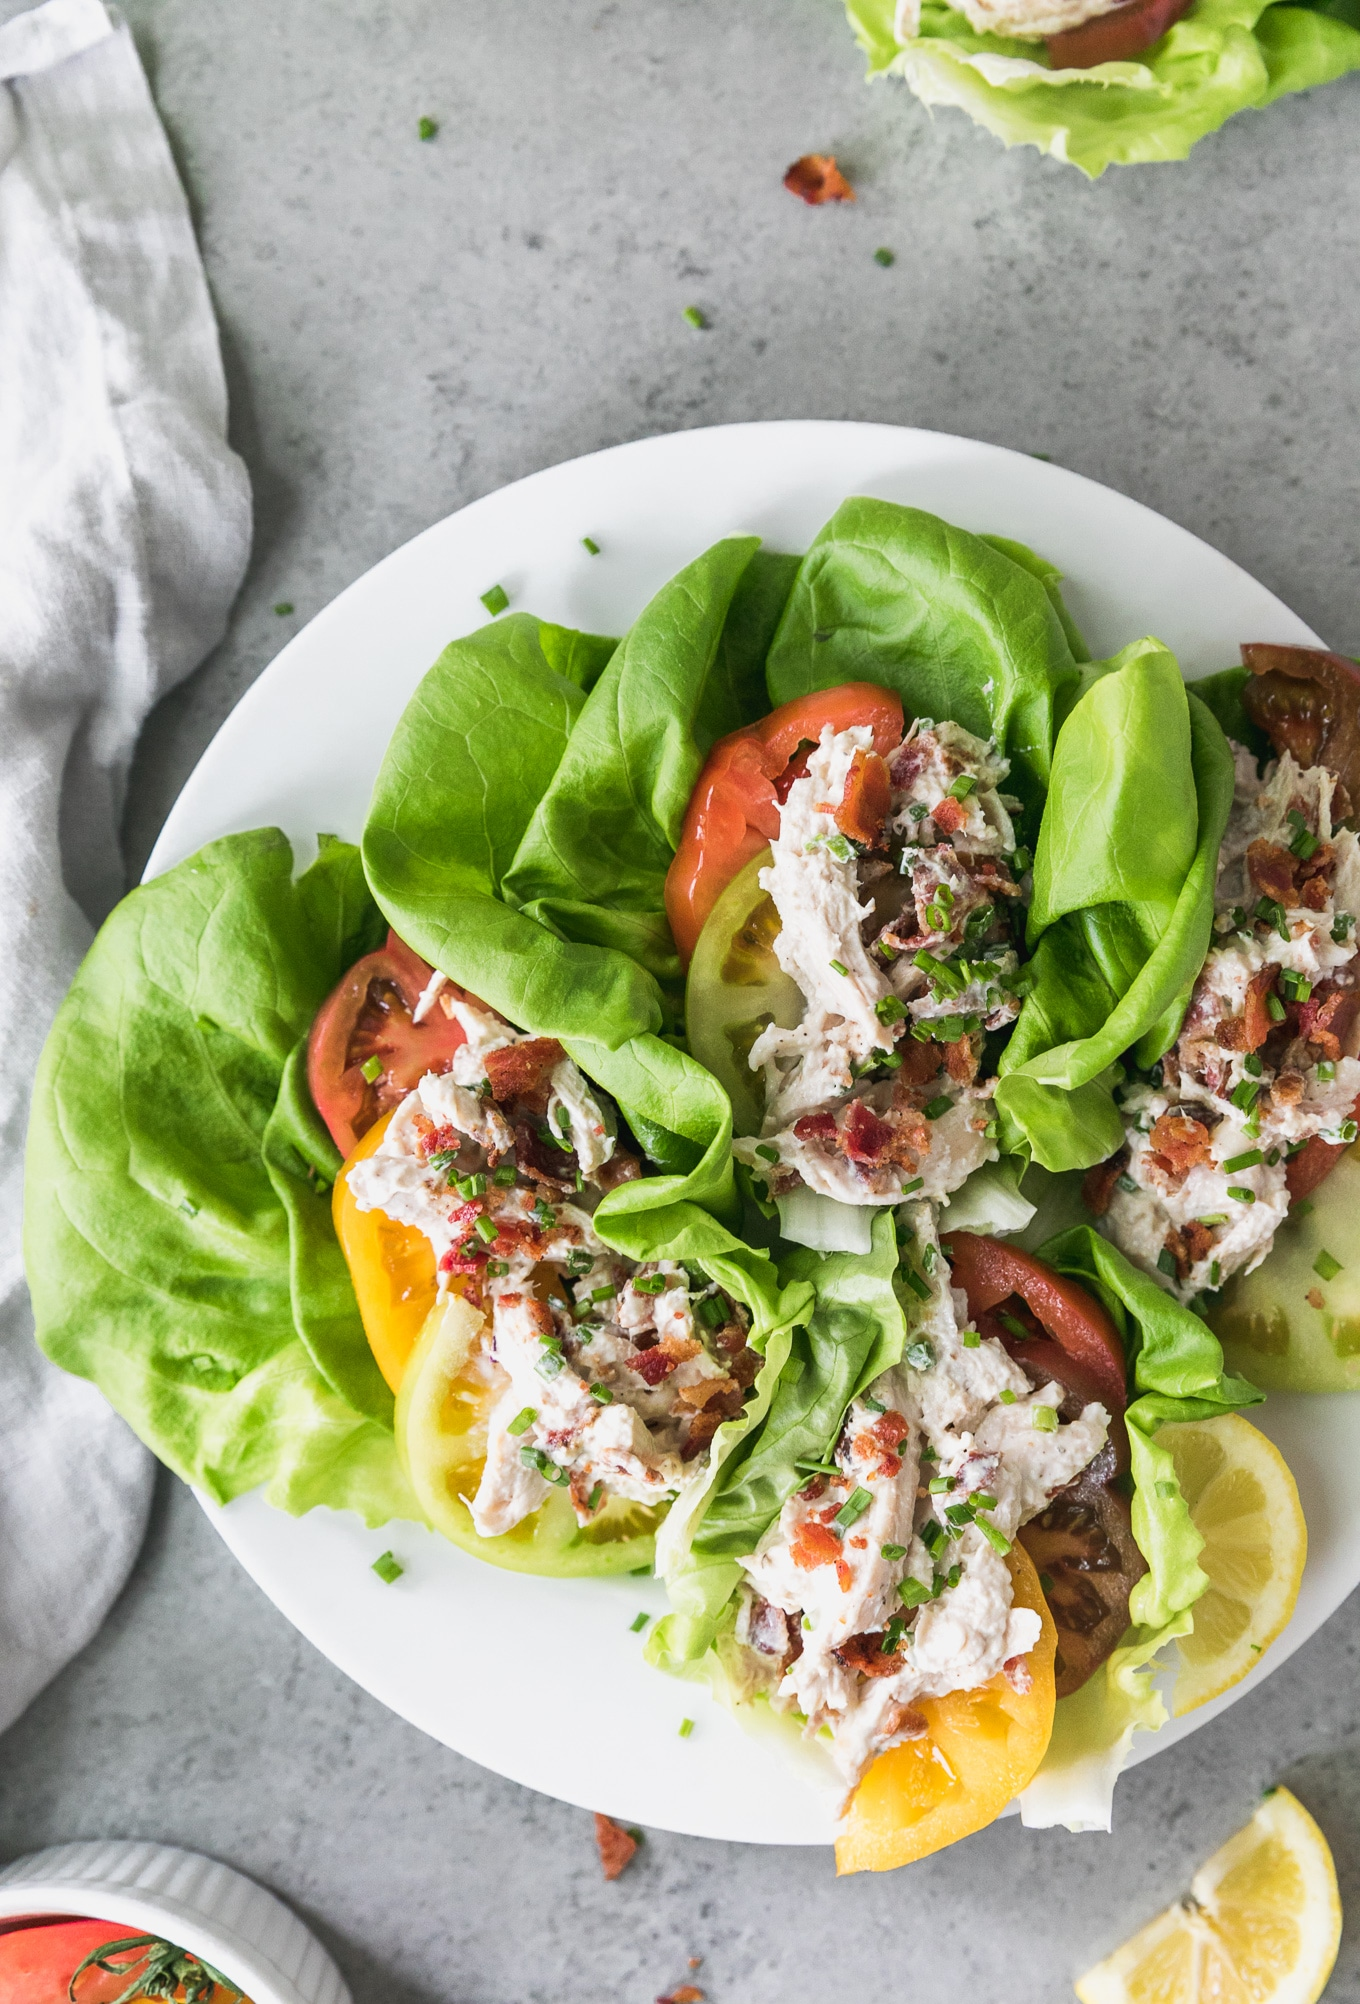chopped lettuce: (65, 828, 428, 1503), (935, 504, 1210, 1091), (379, 595, 703, 1092)
